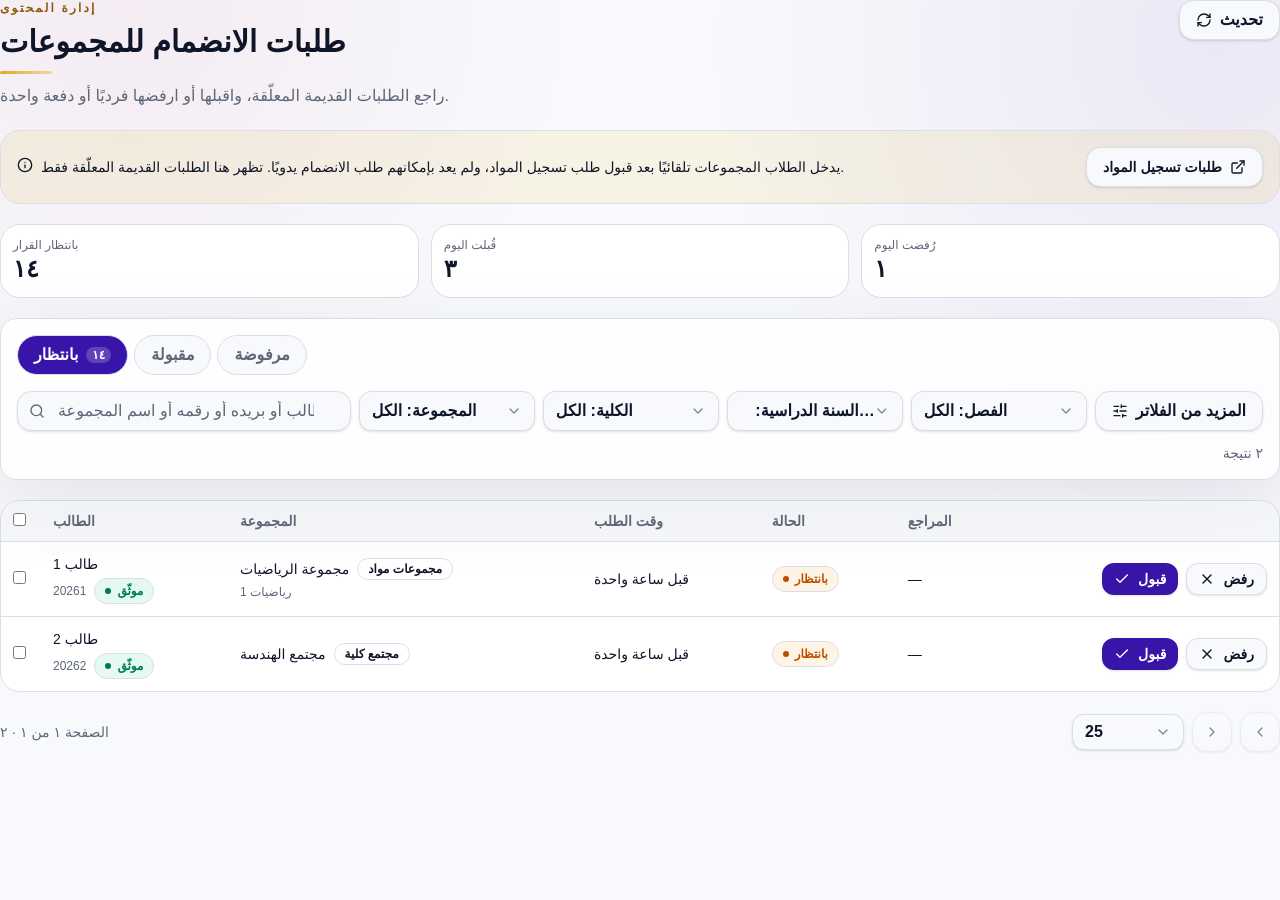
Test: group join requests page › bulk rejects with a reason and lists the items that failed
Click the checkbox named "طالب 1". click: (20, 577)
box: [13,571,26,584]
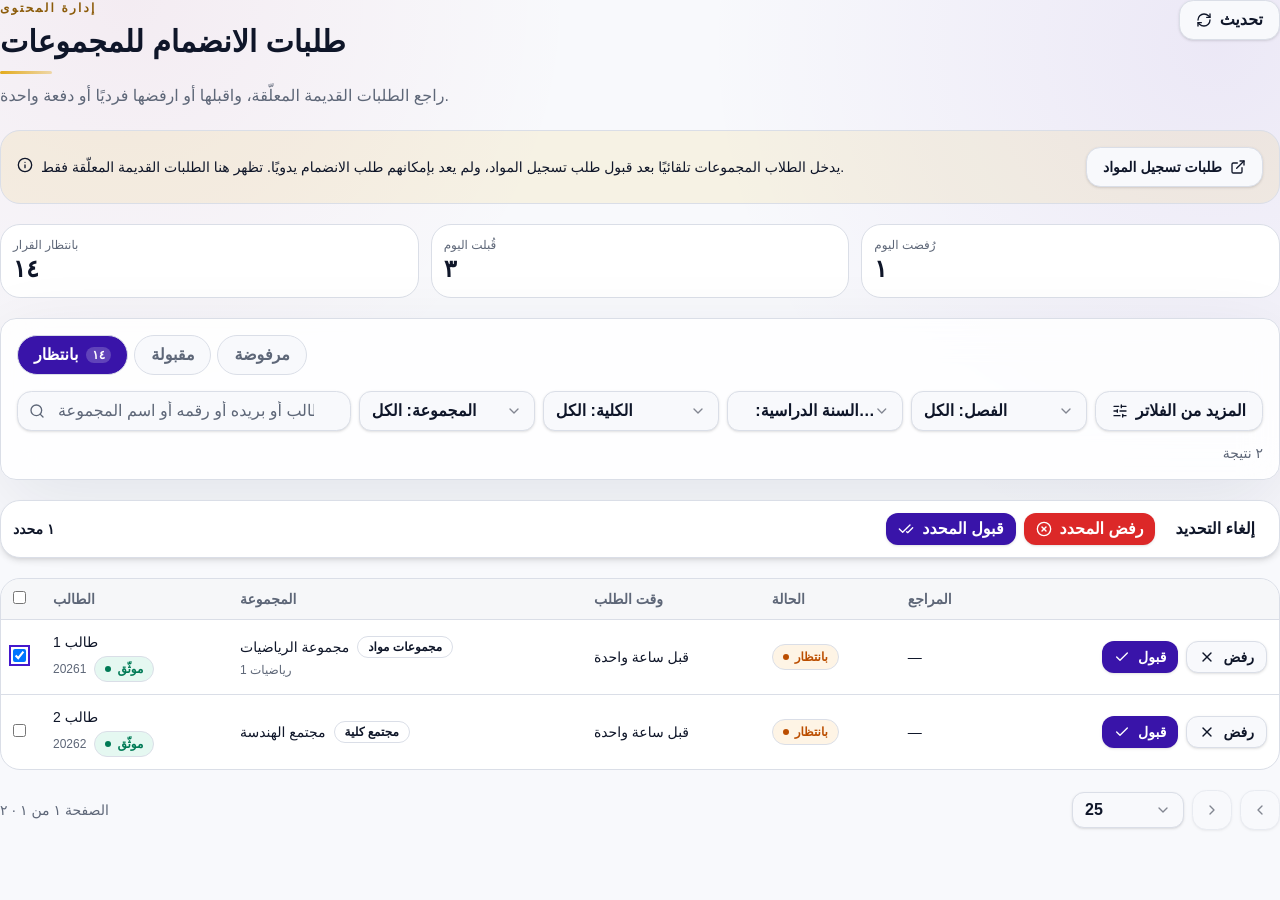
Click the checkbox named "طالب 2". click: (20, 730)
box: [13,724,26,737]
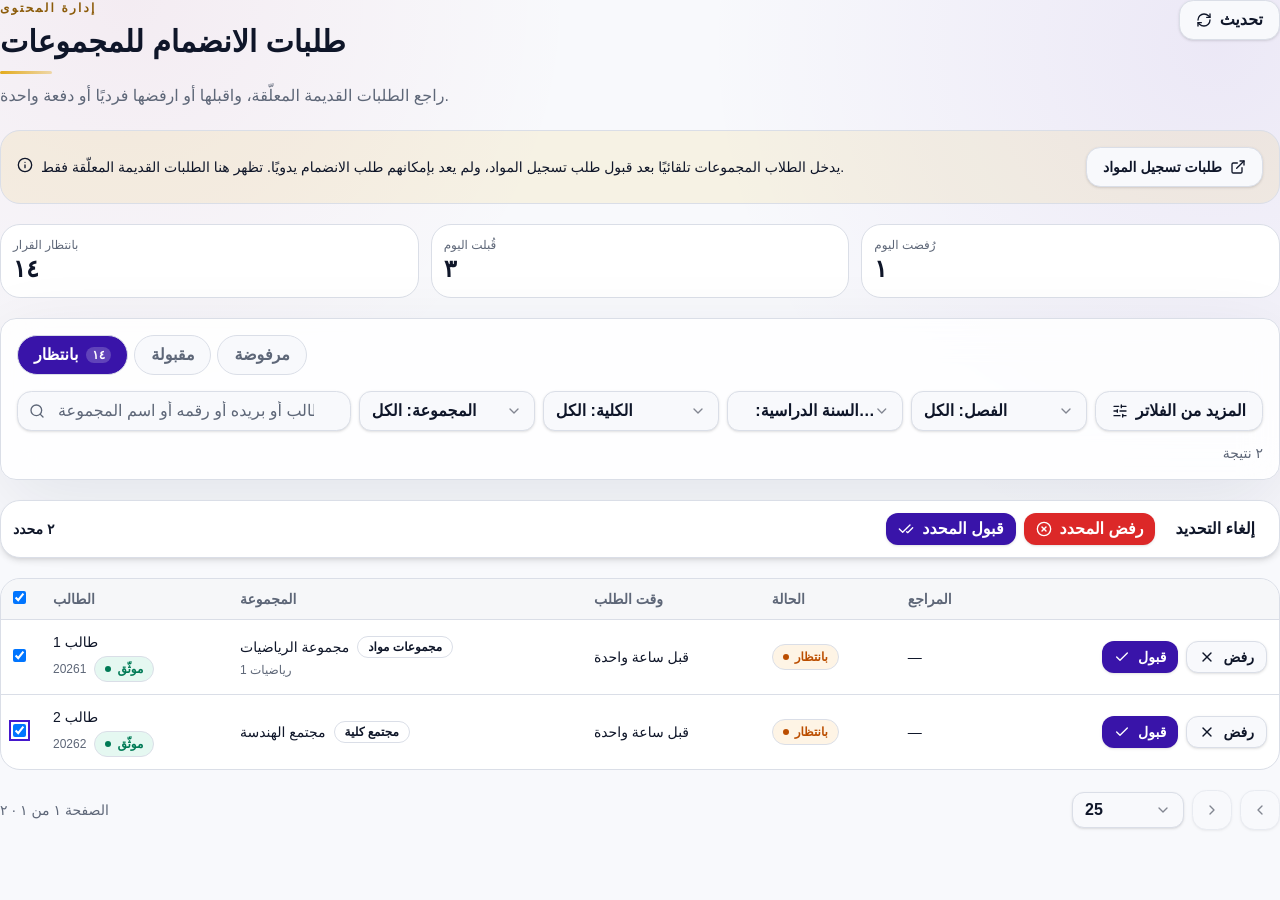
Click the button "رفض المحدد". click: (1089, 529)
box: [1024,513,1155,545]
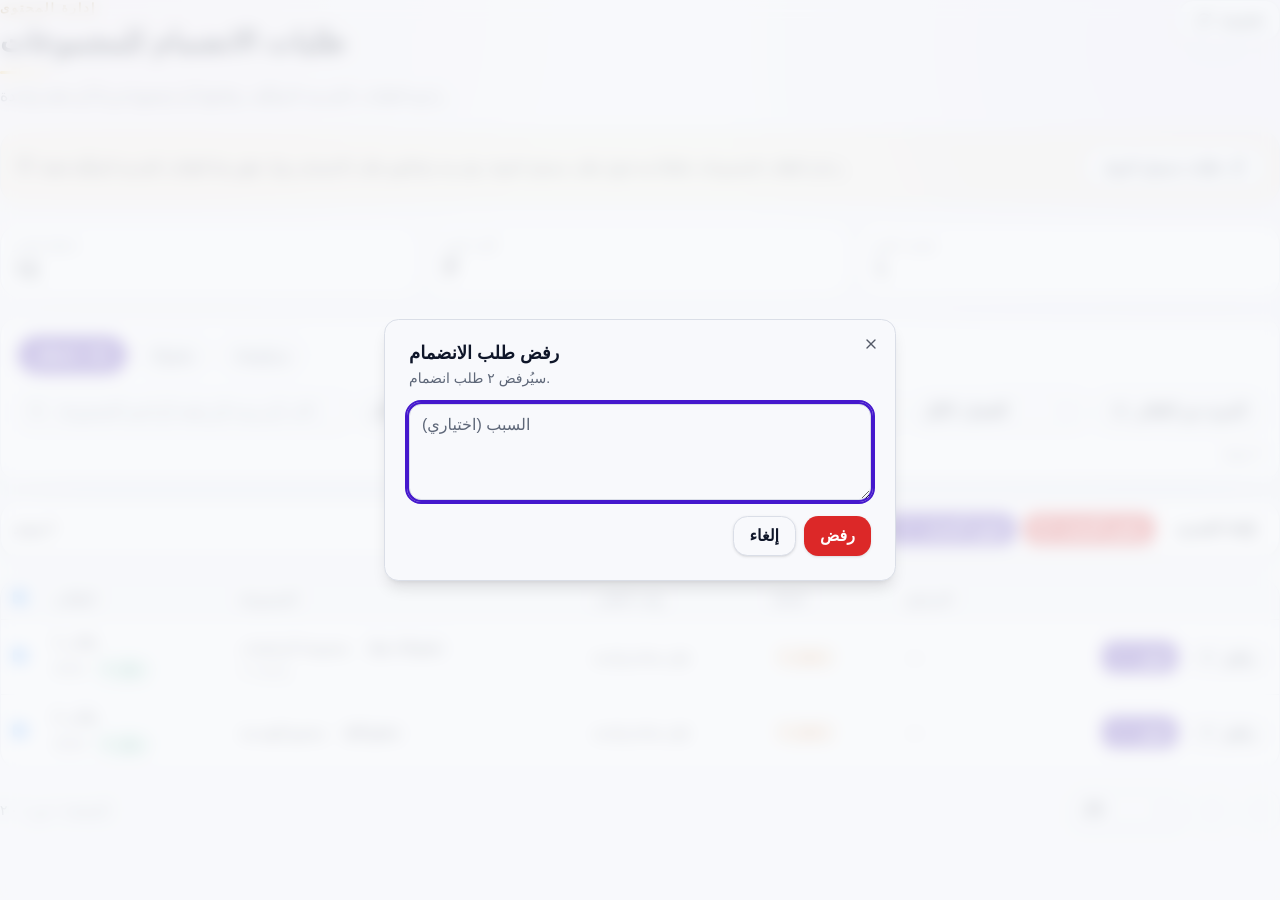
Type "انتهت المدة" into the text box named "سبب الرفض". click: (640, 452)
box: [409,404,871,500]
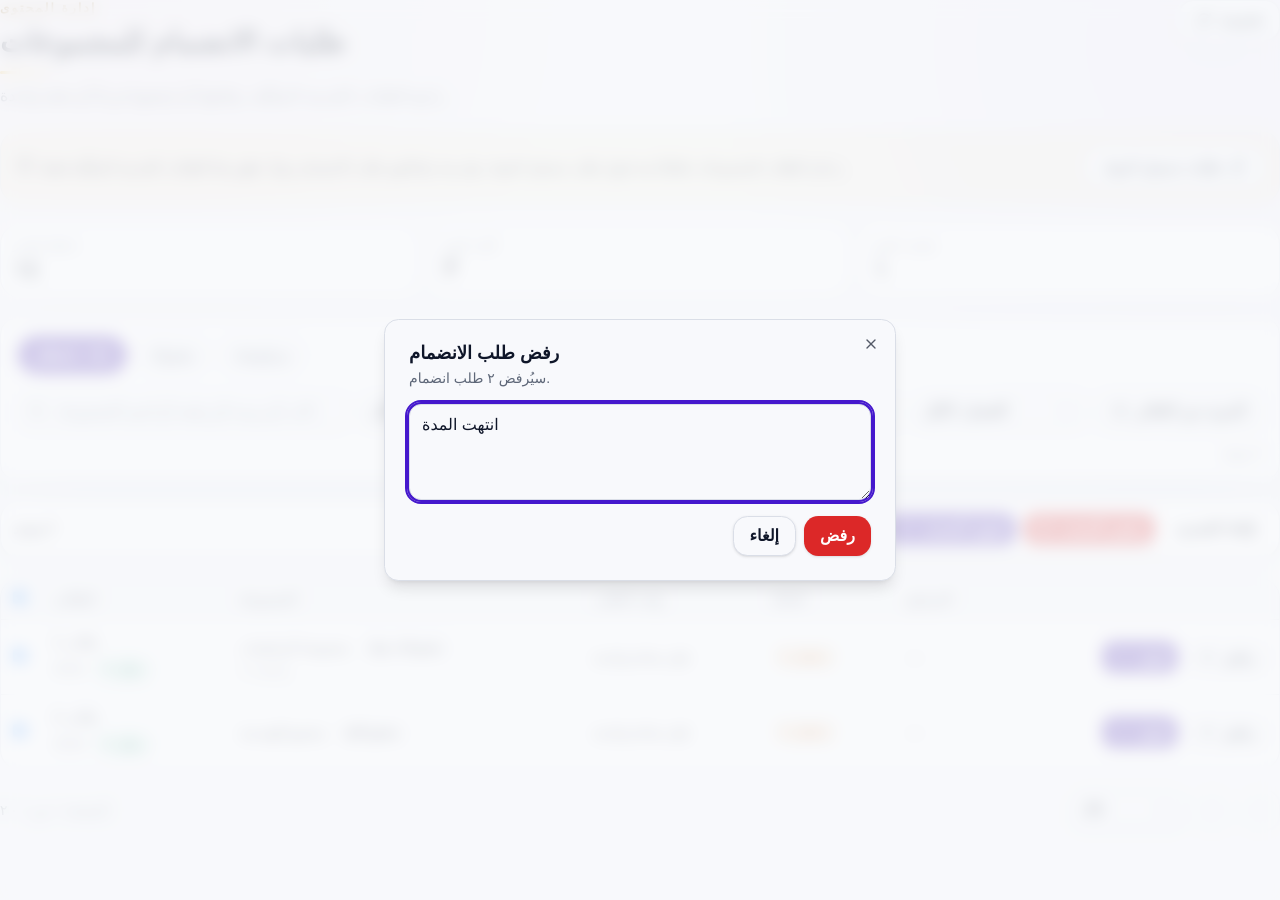
Click the button "رفض". click: (838, 536)
box: [804,516,871,556]
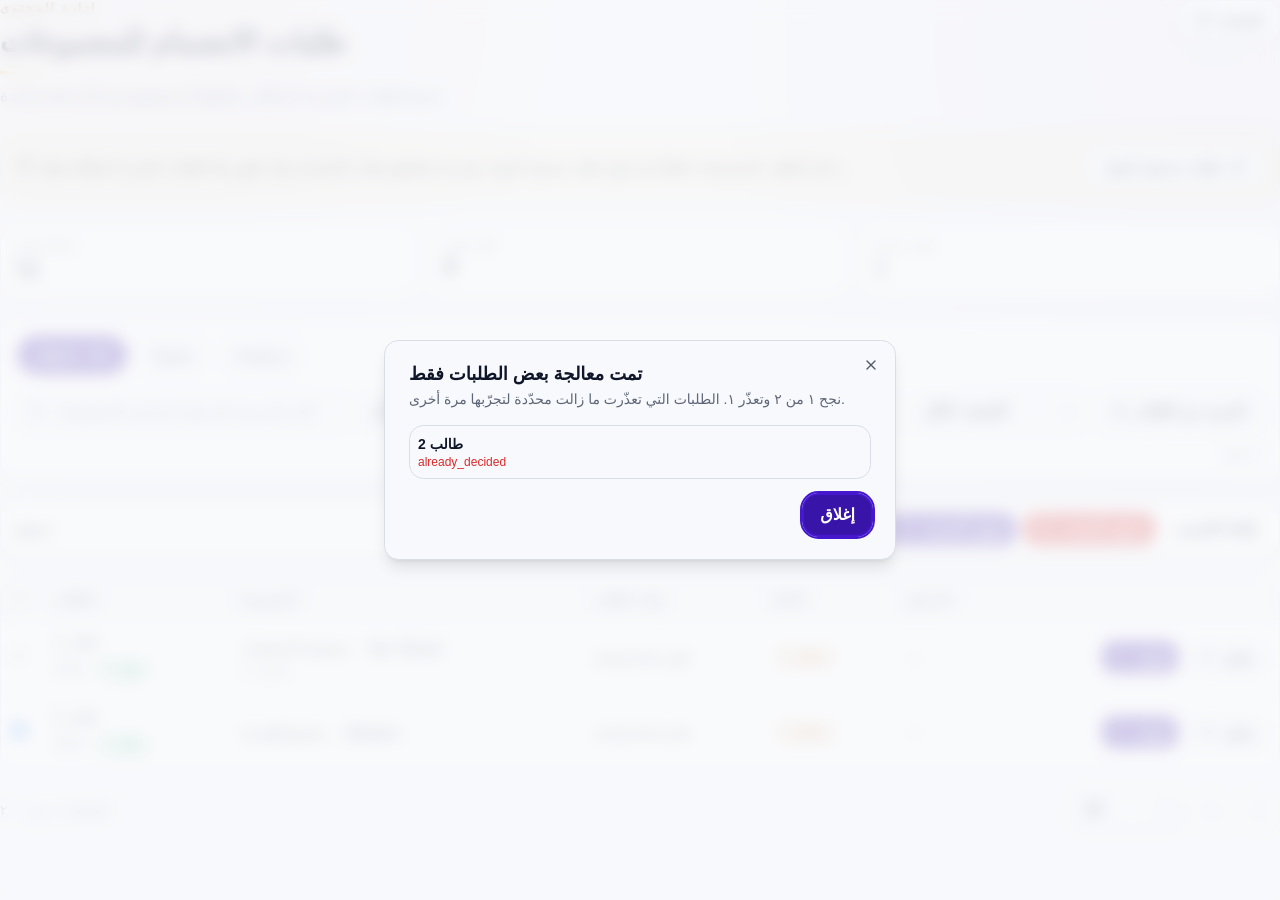
Now the list item with test id "bulk-failure-2" shows "طالب 2", box [418,436,463,452]
Now the dialog with test id "bulk-results" shows "١ من ٢", box [409,391,845,407]
